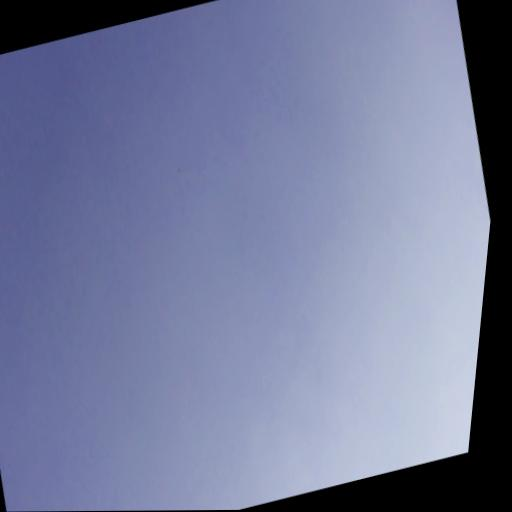drones: (176, 166, 183, 175)
